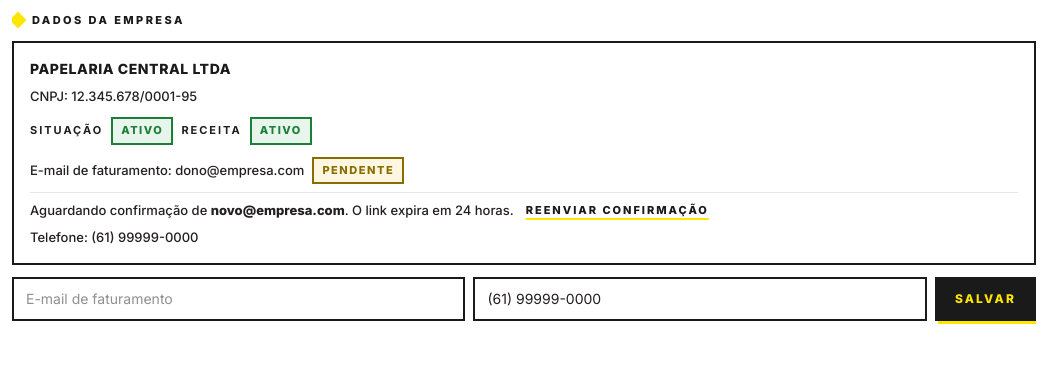
CompanyDetailsSection — e-mail de faturamento › avisa que o link anterior deixou de valer ao reenviar
Click the button "Reenviar confirmação" at (617, 211), box [526,203,709,219]
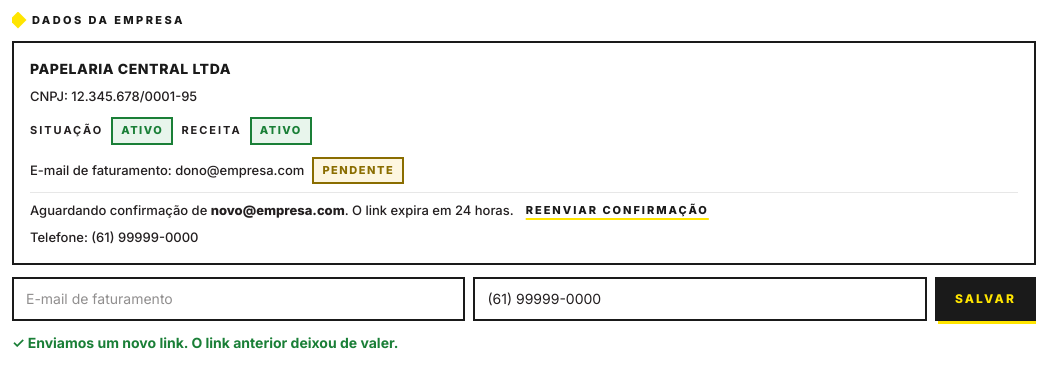
Expected: the text "✓ Enviamos um novo link. O link anterior deixou de valer." is shown, [12,334,398,351]
